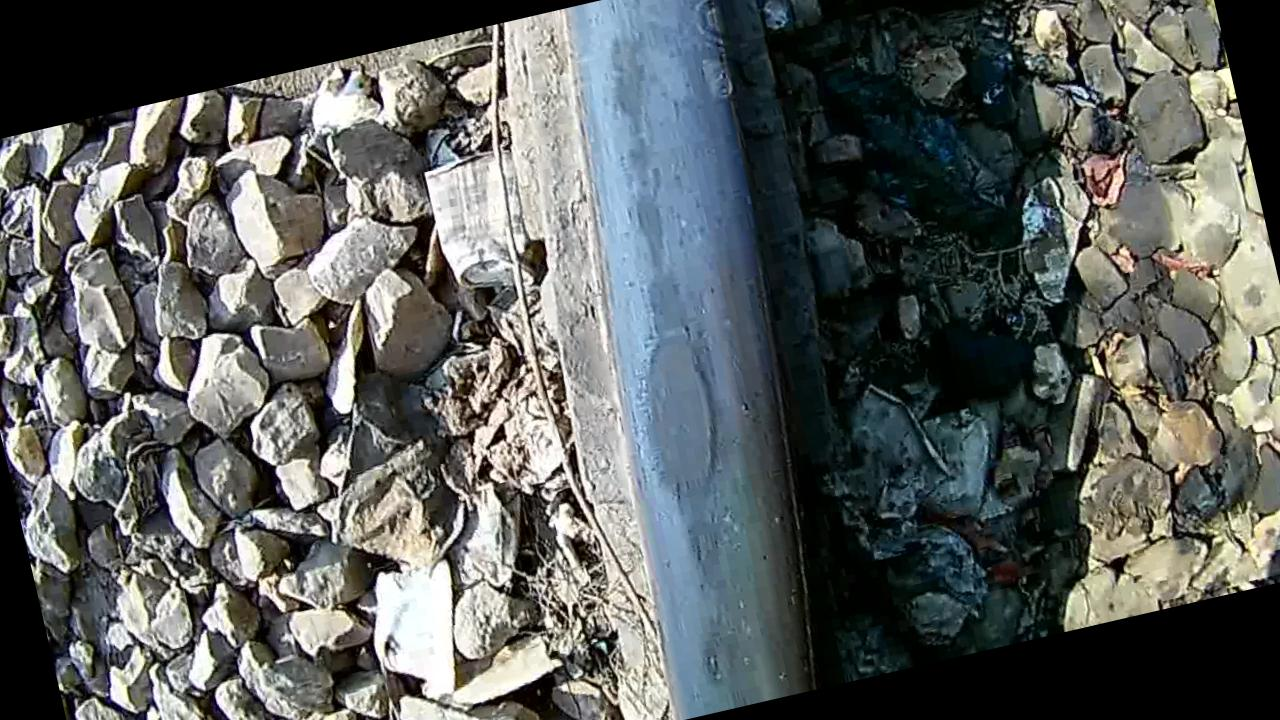bolt_missing: (542, 0, 849, 714)
